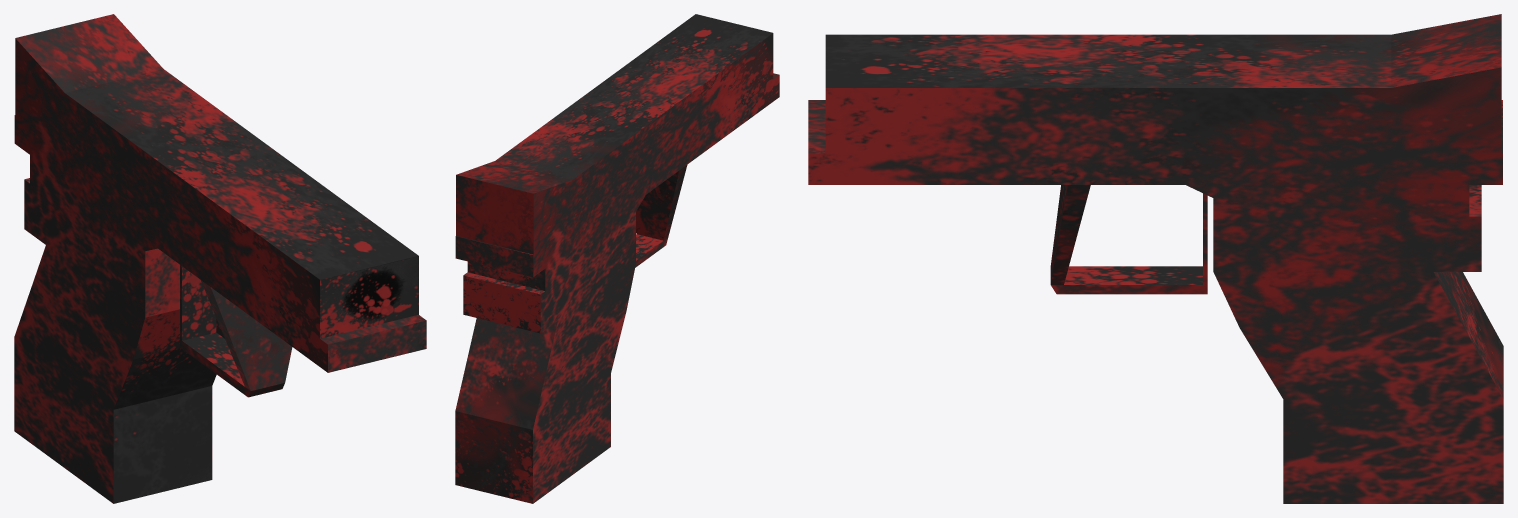
File: pistol.fbx
3 views of the same model, side by side, from view 1: azimuth 30°, elevation 25°; view 2: azimuth 150°, elevation 25°; view 3: azimuth 270°, elevation 25° (orthographic). The views are drawn at different scales.
Parts seen in each view (by area): view 1: Cube; view 2: Cube; view 3: Cube.
Part boxes in pixels (x1,y1,x2,y2): Cube: [14, 14, 426, 503]; Cube: [455, 14, 779, 503]; Cube: [808, 14, 1503, 503].
Bounding box in the file's own units: 69.57 × 265 × 383.
